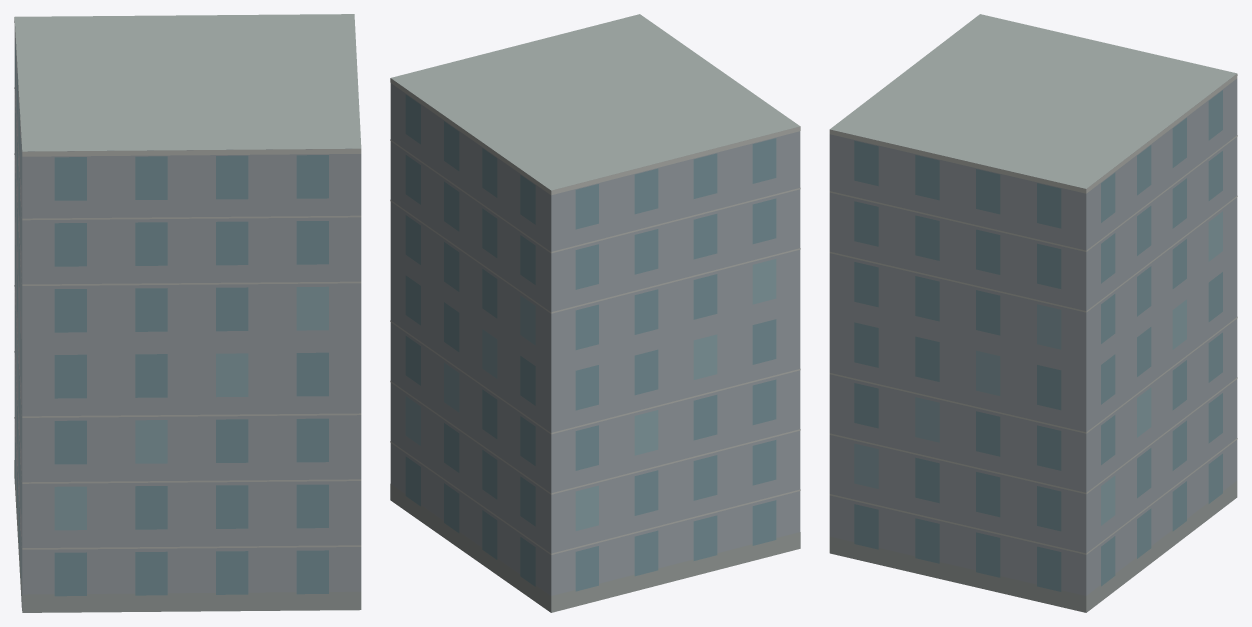
File: survey-upis-32694252.glb
3 views of the same model, side by side, from view 1: azimuth 30°, elevation 25°; view 2: azimuth 150°, elevation 25°; view 3: azimuth 270°, elevation 25° (orthographic). The views are drawn at different scales.
Visible parts, largest first — view 1: survey-upis-32694252.tmp; view 2: survey-upis-32694252.tmp; view 3: survey-upis-32694252.tmp.
Part boxes in pixels (left/top/right/bottom): survey-upis-32694252.tmp: left=14, top=14, right=361, bottom=612; survey-upis-32694252.tmp: left=390, top=14, right=800, bottom=612; survey-upis-32694252.tmp: left=829, top=14, right=1237, bottom=612.
Bounding box in the file's own units: 19.09 × 21.55 × 18.8.
